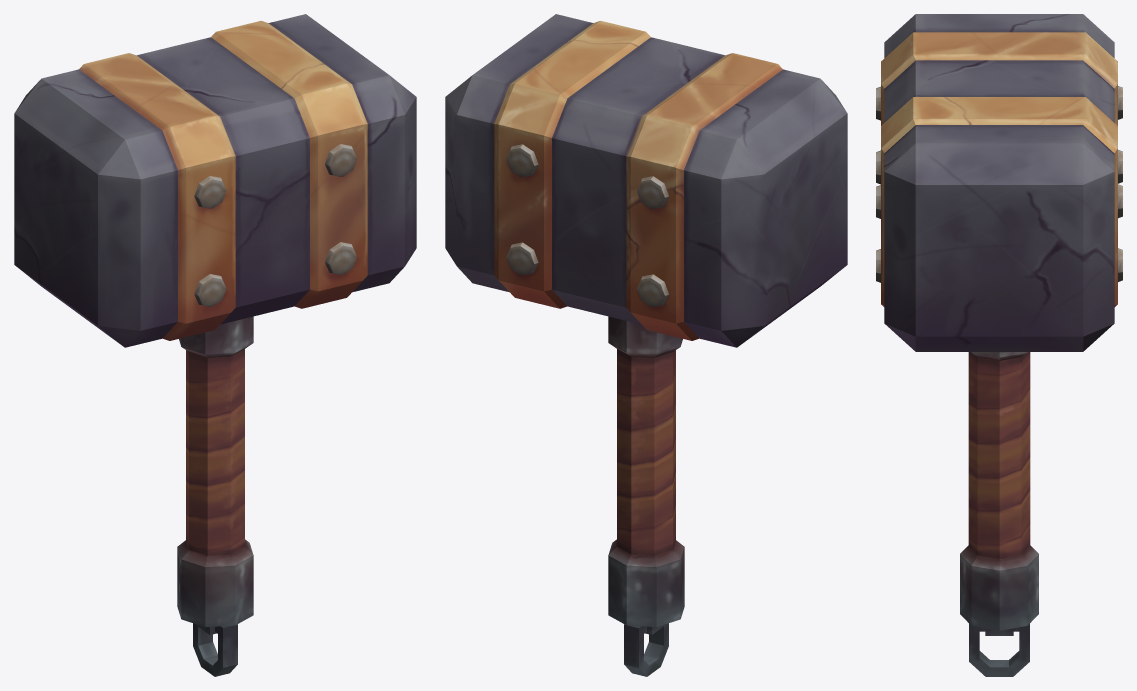
Rendered from hammer-2.glb.
The picture shows the model from 3 angles, left to right: view 1: azimuth 30°, elevation 25°; view 2: azimuth 150°, elevation 25°; view 3: azimuth 270°, elevation 25°; orthographic projection.
Parts seen in each view (by area): view 1: test; view 2: test; view 3: test.
Part boxes in pixels (x1,y1,x2,y2): test: (14,14,416,676); test: (445,14,847,676); test: (876,14,1122,676).
Size of the model in its own units: 3.2 by 5.73 by 2.15.
1 material, 1 textured.
